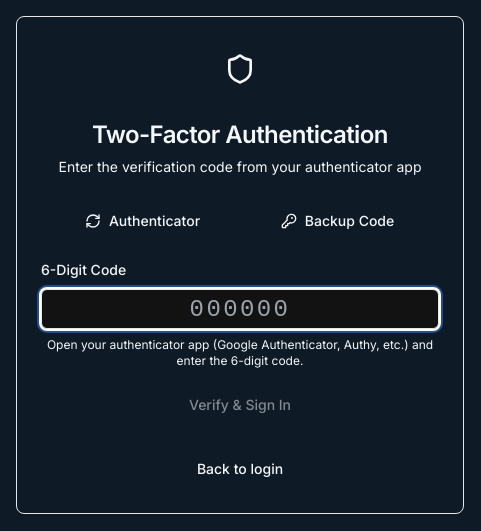
Scenario: MFAVerificationPage › only allows numeric input for TOTP
In the field with placeholder "000000": point(240, 309) [41, 289, 439, 329], type "abc123"
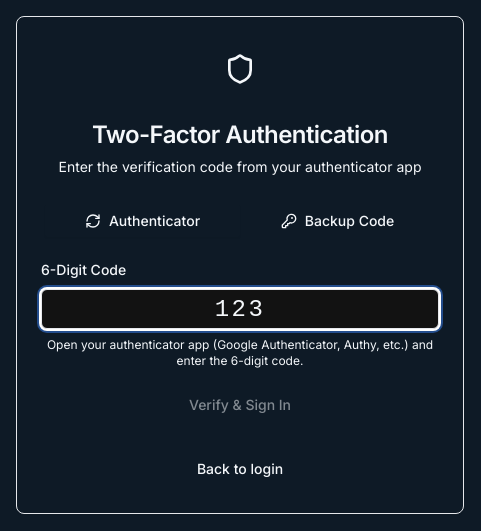
Result: the field with placeholder "000000" holds "123" at [41, 289, 439, 329]
